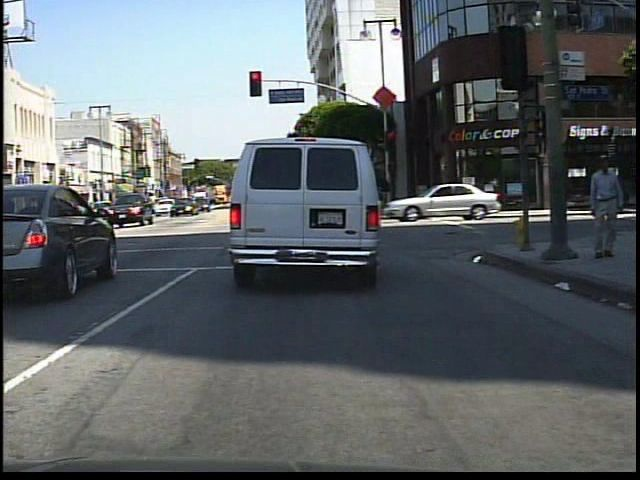person: (585, 148, 627, 261)
